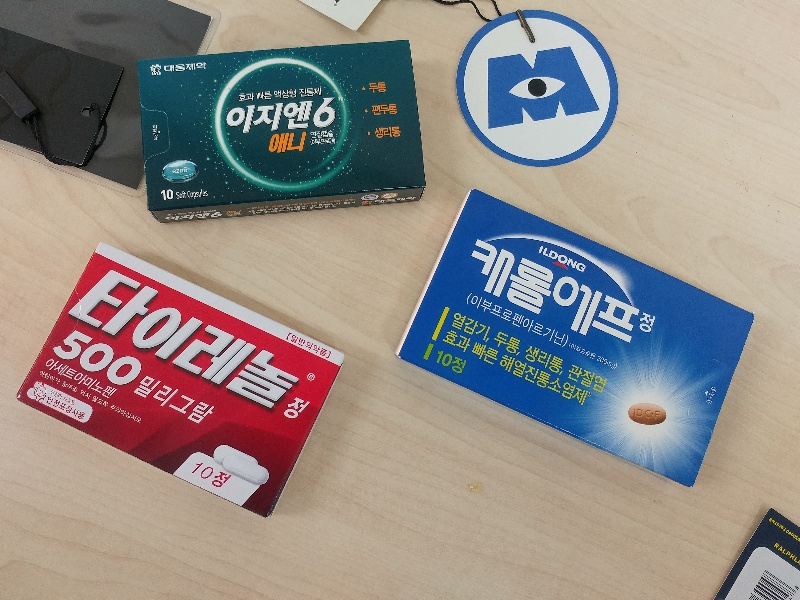carolF: (395, 190, 756, 487)
ezn: (136, 42, 426, 225)
tylenol: (17, 240, 347, 518)
